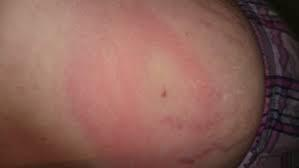Tick: (137, 45, 194, 123)
